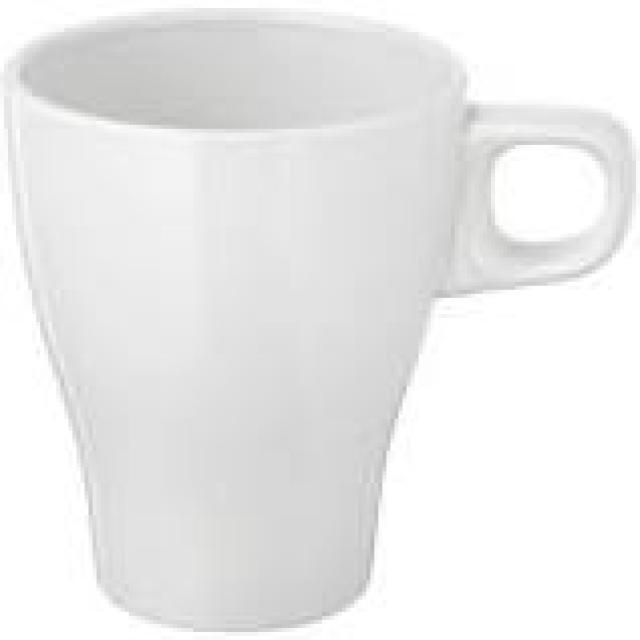taza: (3, 9, 636, 628)
